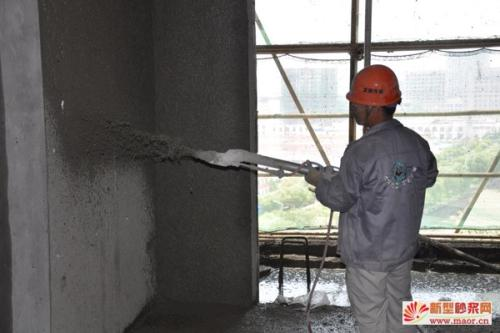gloves: (304, 164, 321, 185)
hard-hat: (345, 64, 401, 106)
person: (302, 63, 439, 332)
ppe-suit: (312, 117, 438, 332)
